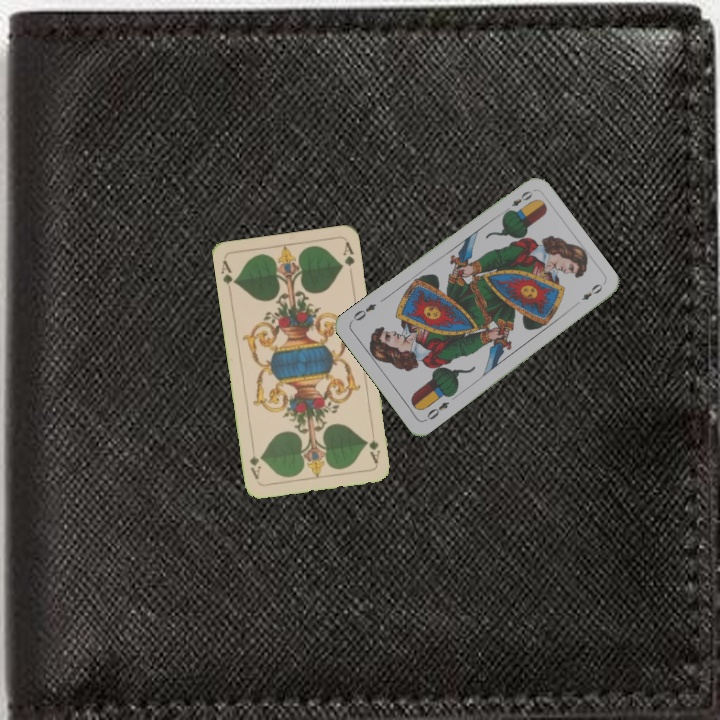EO: (500, 186, 535, 216), (420, 397, 452, 424)
GA: (217, 256, 239, 288), (363, 435, 383, 466)
